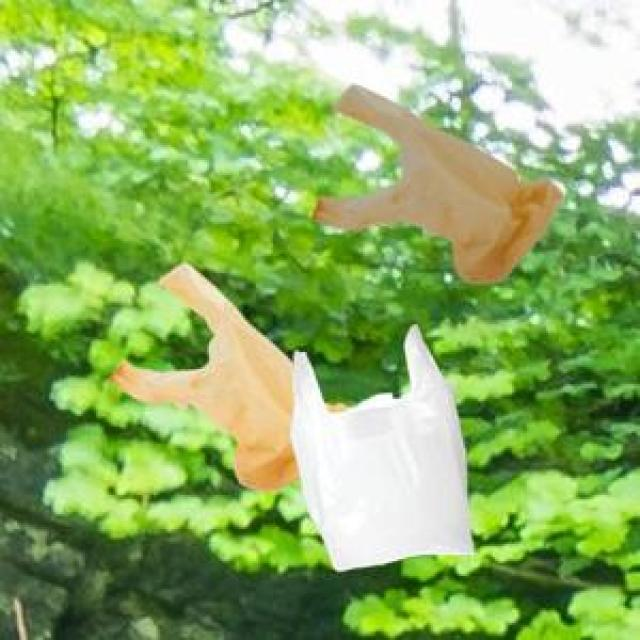waste: (315, 86, 562, 282), (291, 326, 472, 569), (111, 265, 298, 489)
